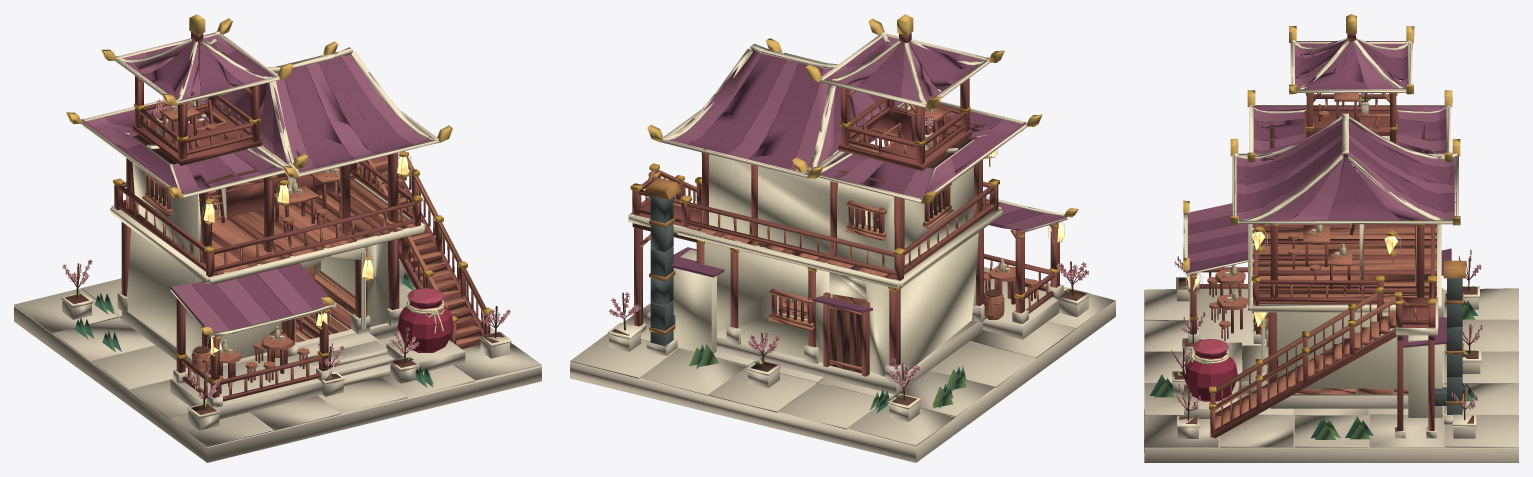
File: tavern-lod2-0a67592d9ba0.glb
The picture shows the model from 3 angles, left to right: view 1: azimuth 30°, elevation 25°; view 2: azimuth 150°, elevation 25°; view 3: azimuth 270°, elevation 25°; orthographic projection. The views are drawn at different scales.
Visible parts, largest first — view 1: TW17batch_0.001, TW17batch_53.001, TW17batch_73.001, TW17batch_52.001, TW17batch_128.001, TW17batch_36.001, TW17batch_5.001, TW17batch_98.001, TW17batch_40.001, TW17batch_101.001, TW17batch_54.001, TW17batch_109.001 (+3 smaller); view 2: TW17batch_0.001, TW17batch_5.001, TW17batch_53.001, TW17batch_73.001, TW17batch_128.001, TW17batch_36.001, TW17batch_52.001, TW17batch_98.001, TW17batch_135.001, TW17batch_40.001, TW17batch_131.001, TW17batch_54.001 (+3 smaller); view 3: TW17batch_0.001, TW17batch_73.001, TW17batch_53.001, TW17batch_52.001, TW17batch_36.001, TW17batch_128.001, TW17batch_5.001, TW17batch_135.001, TW17batch_40.001, TW17batch_98.001, TW17batch_101.001, TW17batch_54.001 (+8 smaller).
Boxes of the visible parts, x1,y1,x2,y2 form: TW17batch_0.001: (14,122,541,462); TW17batch_53.001: (114,32,490,401); TW17batch_73.001: (105,40,434,333); TW17batch_52.001: (126,79,486,396); TW17batch_128.001: (61,31,511,418); TW17batch_36.001: (82,33,434,335); TW17batch_5.001: (127,118,389,358); TW17batch_98.001: (63,101,505,414); TW17batch_40.001: (64,14,508,397); TW17batch_101.001: (397,300,453,352); TW17batch_54.001: (113,103,491,383); TW17batch_109.001: (203,156,408,353); TW17batch_0.001: (570,138,1115,462); TW17batch_5.001: (673,139,978,376); TW17batch_53.001: (630,33,1059,376); TW17batch_73.001: (670,35,1043,312); TW17batch_128.001: (607,32,1090,409); TW17batch_36.001: (666,35,1067,230); TW17batch_52.001: (640,82,1050,370); TW17batch_98.001: (611,108,1086,405); TW17batch_135.001: (650,195,675,346); TW17batch_40.001: (647,14,1078,217); TW17batch_131.001: (689,344,966,410); TW17batch_54.001: (630,107,1061,298); TW17batch_0.001: (1144,105,1518,462); TW17batch_73.001: (1186,40,1456,347); TW17batch_53.001: (1190,33,1436,438); TW17batch_52.001: (1207,93,1438,429); TW17batch_36.001: (1188,39,1456,262); TW17batch_128.001: (1172,37,1481,427); TW17batch_5.001: (1277,136,1442,417); TW17batch_135.001: (1434,278,1462,414); TW17batch_40.001: (1171,14,1475,407); TW17batch_98.001: (1171,93,1480,424); TW17batch_101.001: (1183,351,1237,401); TW17batch_54.001: (1189,93,1436,409).
Bounding box in the file's own units: 9.99 × 9.91 × 9.99.
24 materials, 8 textured.
